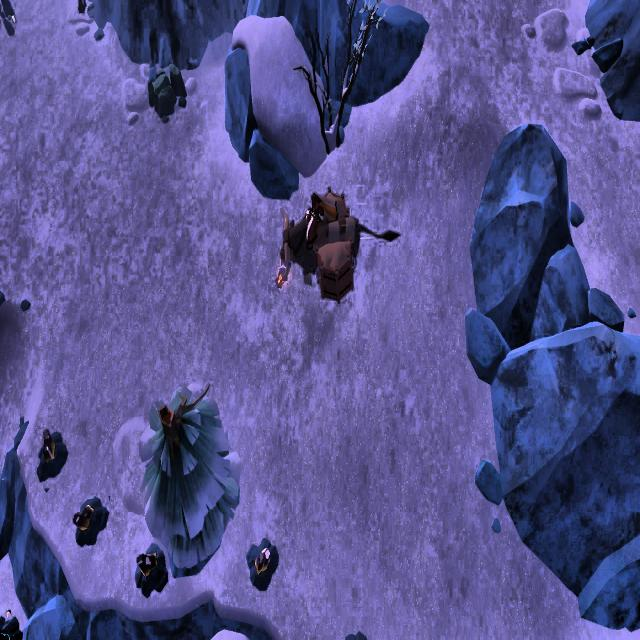rock_t3: (146, 56, 189, 122)
